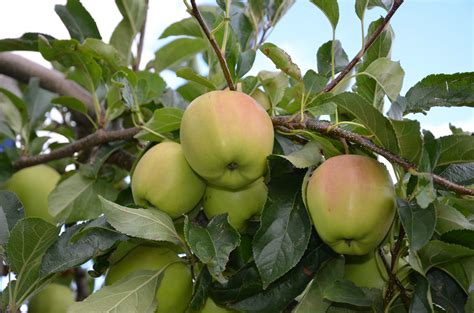apple: (177, 86, 278, 194), (304, 151, 401, 259), (124, 135, 208, 219)
